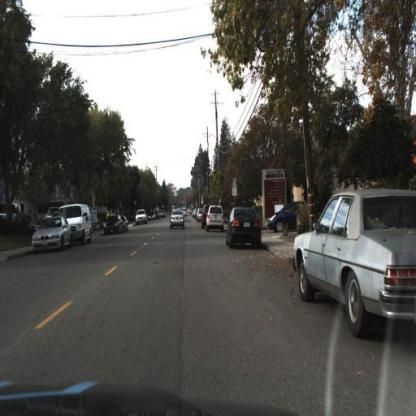car: (294, 186, 416, 340), (225, 205, 263, 251), (30, 213, 72, 253), (266, 198, 306, 234), (70, 202, 92, 243), (100, 208, 124, 239), (205, 204, 225, 232), (102, 210, 122, 236), (168, 206, 186, 232), (169, 208, 187, 229), (133, 204, 148, 227), (119, 210, 132, 233)
